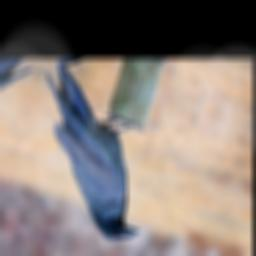Crow: (4, 61, 181, 250)
